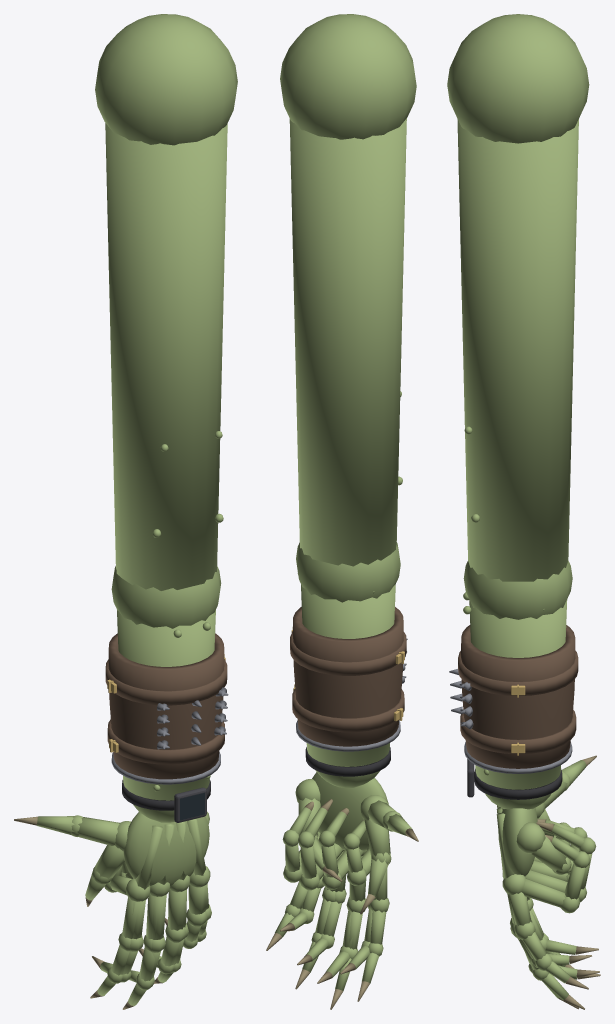
File: goblin-arm.glb
3 views of the same model, side by side, from view 1: azimuth 30°, elevation 25°; view 2: azimuth 150°, elevation 25°; view 3: azimuth 270°, elevation 25° (orthographic). The views are drawn at different scales.
Parts seen in each view (by area): view 1: upperarm_L, shoulder_L, hand_L, bracer_L, forearm_L, handhold_L, elbow_L, strap1_L, strap0_L, lip_L, band_L, Watch_Screen (+1 smaller); view 2: upperarm_L, shoulder_L, bracer_L, hand_L, hand_R, handhold_L, forearm_L, elbow_L, strap1_L, strap0_L, band_L, lip_L (+1 smaller); view 3: upperarm_L, shoulder_L, bracer_L, hand_R, forearm_L, hand_L, elbow_L, handhold_L, strap1_L, strap0_L, band_L, lip_L (+1 smaller).
Part boxes in pixels (bbox=[...]): upperarm_L: bbox=[105, 123, 227, 590]; shoulder_L: bbox=[95, 14, 237, 145]; hand_L: bbox=[14, 812, 210, 984]; bracer_L: bbox=[108, 633, 224, 779]; forearm_L: bbox=[117, 610, 215, 800]; handhold_L: bbox=[85, 845, 211, 1009]; elbow_L: bbox=[111, 566, 221, 628]; strap1_L: bbox=[105, 659, 227, 705]; strap0_L: bbox=[107, 719, 224, 764]; lip_L: bbox=[111, 752, 220, 784]; band_L: bbox=[122, 779, 210, 810]; Watch_Screen: bbox=[180, 792, 204, 820]; upperarm_L: bbox=[289, 118, 406, 566]; shoulder_L: bbox=[280, 14, 416, 139]; bracer_L: bbox=[293, 607, 403, 746]; hand_L: bbox=[280, 772, 418, 983]; hand_R: bbox=[282, 779, 371, 890]; handhold_L: bbox=[266, 819, 391, 1009]; forearm_L: bbox=[301, 584, 395, 766]; elbow_L: bbox=[296, 542, 400, 602]; strap1_L: bbox=[290, 631, 406, 675]; strap0_L: bbox=[292, 689, 404, 732]; band_L: bbox=[305, 747, 390, 776]; lip_L: bbox=[296, 720, 400, 751]; upperarm_L: bbox=[457, 119, 578, 581]; shoulder_L: bbox=[447, 14, 589, 143]; bracer_L: bbox=[461, 625, 575, 768]; hand_R: bbox=[516, 819, 596, 913]; forearm_L: bbox=[469, 599, 567, 789]; hand_L: bbox=[496, 755, 600, 979]; elbow_L: bbox=[463, 561, 572, 619]; handhold_L: bbox=[509, 809, 588, 1009]; strap1_L: bbox=[458, 650, 578, 695]; strap0_L: bbox=[460, 709, 576, 754]; band_L: bbox=[474, 768, 562, 799]; lip_L: bbox=[464, 742, 572, 773].
Bounding box in the file's own units: 0.1687 × 0.927 × 0.1297.
